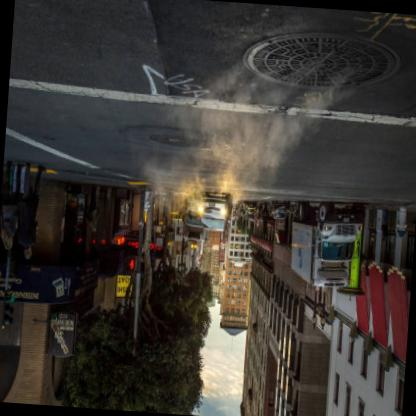manholes: (228, 1, 416, 143)
